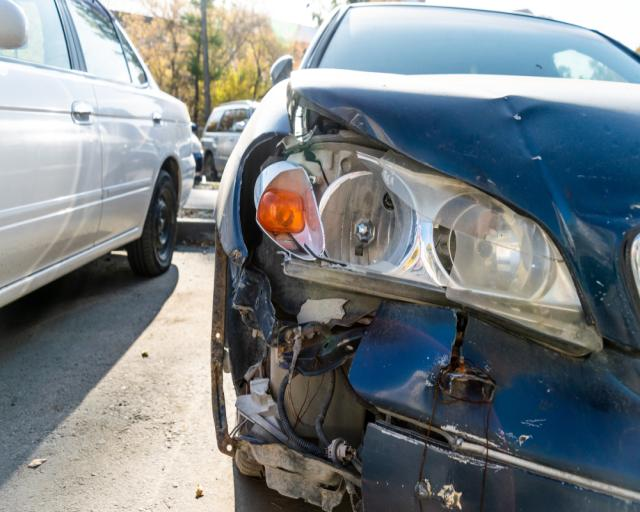crack: (439, 313, 471, 381)
dent: (486, 96, 637, 248)
lamp broken: (251, 92, 590, 353)
